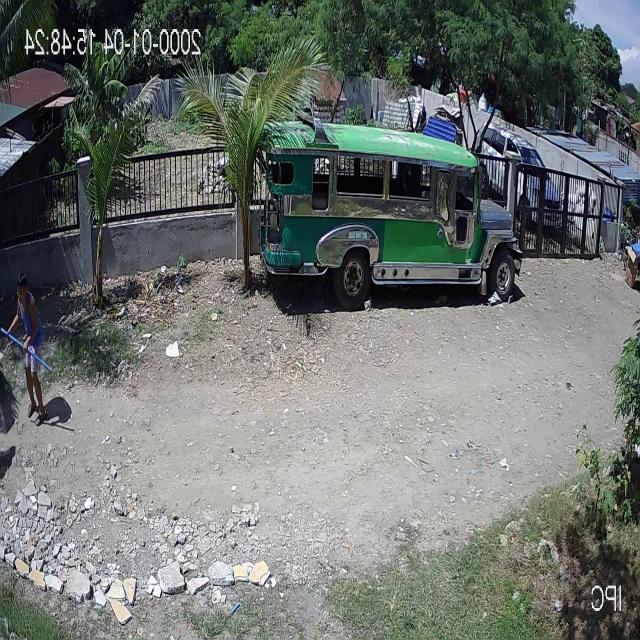running: (1, 270, 52, 424)
